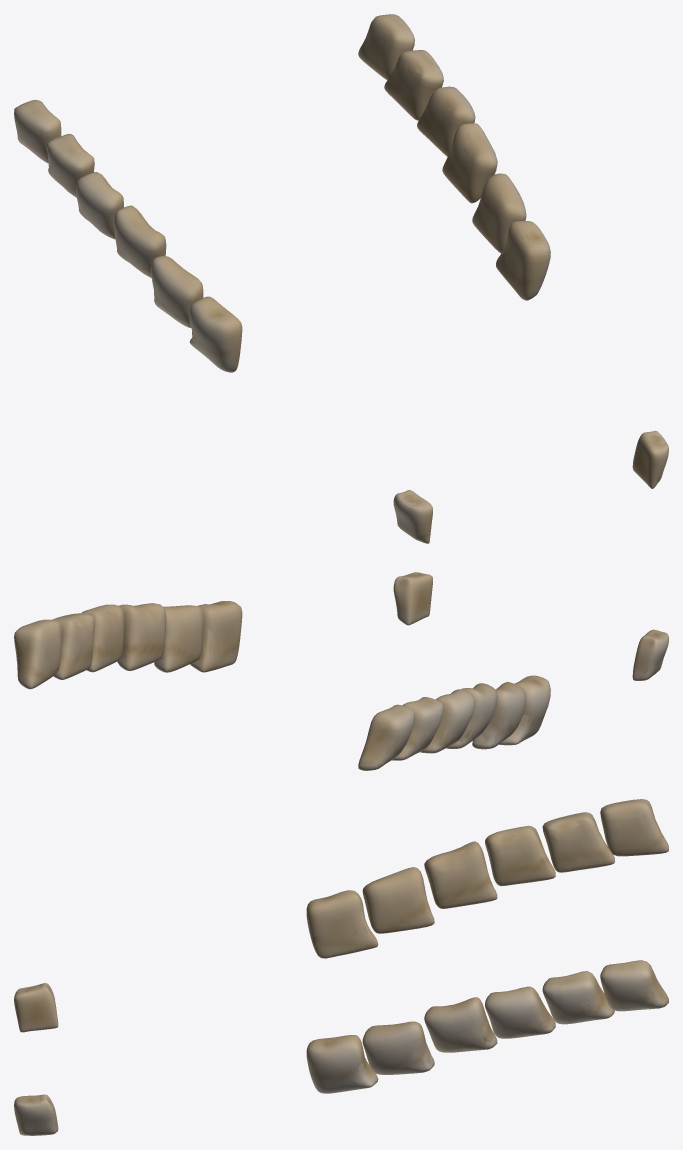
The model's file is Teeth Lower.fbx.
3 renders of one model, top to bottom at view 1: azimuth 30°, elevation 25°; view 2: azimuth 150°, elevation 25°; view 3: azimuth 270°, elevation 25°, orthographic. The views are drawn at different scales.
Visible parts, largest first — view 1: Teeth Lower, Teeth Lower low; view 2: Teeth Lower, Teeth Lower low; view 3: Teeth Lower, Teeth Lower low.
Boxes of the visible parts, bbox=[...] form: Teeth Lower: bbox=[14, 14, 668, 543]; Teeth Lower low: bbox=[49, 31, 664, 517]; Teeth Lower: bbox=[14, 572, 668, 770]; Teeth Lower low: bbox=[15, 573, 664, 756]; Teeth Lower: bbox=[14, 799, 668, 1135]; Teeth Lower low: bbox=[20, 812, 658, 1127].
Bounding box in the file's own units: 6.41 × 3.41 × 10.05.
Materials: 1 (1 with a texture image).
